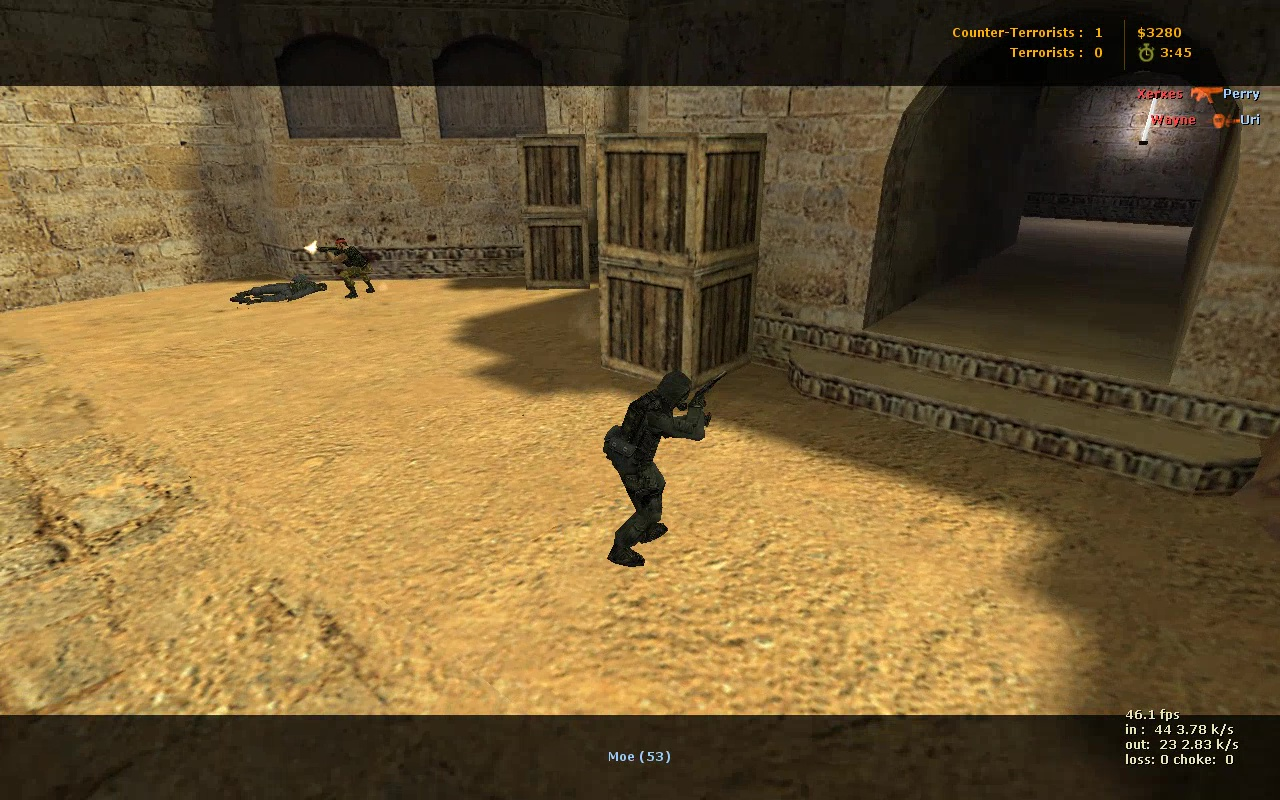ct: (604, 365, 711, 566)
dead: (231, 280, 329, 304)
terr1: (316, 238, 392, 299)
